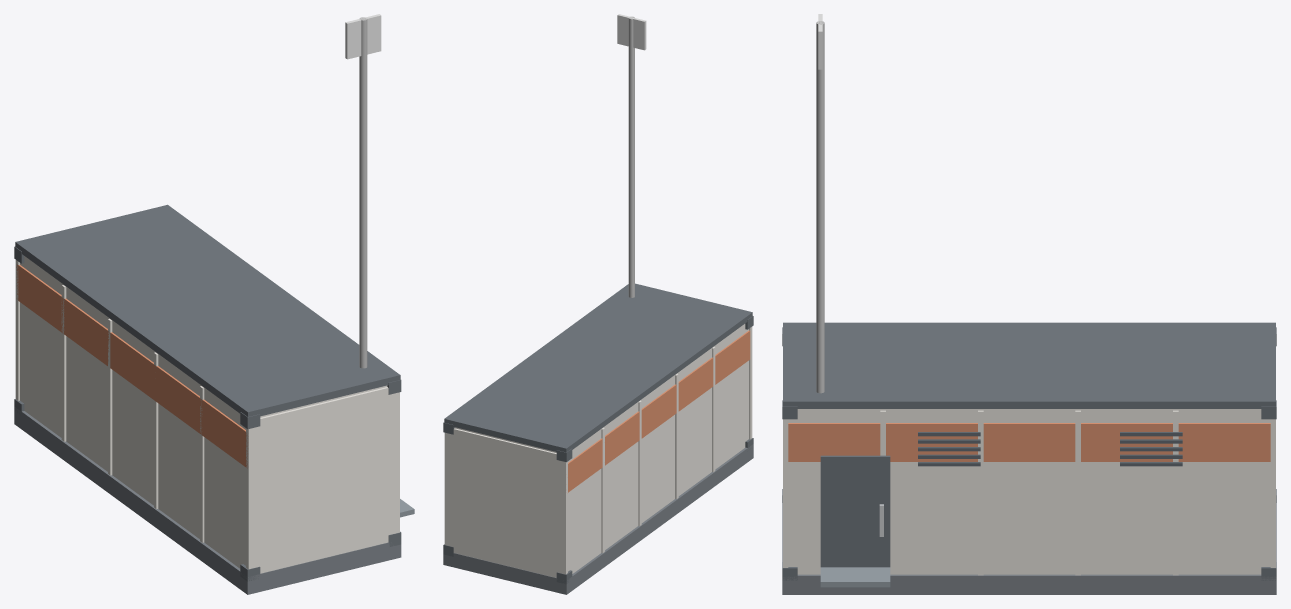
File: gti.glb
3 renders of one model, left to right at view 1: azimuth 30°, elevation 25°; view 2: azimuth 150°, elevation 25°; view 3: azimuth 270°, elevation 25°, orthographic. The views are drawn at different scales.
Visible parts, largest first — view 1: object 9, object 1, object 8, object 15, object 2, object 16, object 17, inst, object 4, object 5, object 3, object 7 (+1 smaller); view 2: object 9, object 1, object 3, object 15, object 2, object 16, object 17, inst, object 4, object 5, object 6, object 7 (+1 smaller); view 3: object 1, object 9, object 15, object 2, object 10, inst (×2), object 16, object 12, object 5, object 6, object 3, object 8 (+1 smaller).
Boxes of the visible parts, x1,y1,x2,y2 form: object 9: (15,204,400,416); object 1: (20,256,387,568); object 8: (246,387,399,573); object 15: (16,264,248,468); object 2: (14,407,401,594); object 16: (359,17,367,368); object 17: (345,14,381,59); inst: (14,246,401,581); object 4: (61,285,66,441); object 5: (108,318,112,475); object 3: (15,260,19,400); object 7: (200,386,204,542); object 9: (444,283,752,452); object 1: (454,324,748,573); object 3: (444,428,567,577); object 15: (568,330,750,492); object 2: (443,444,753,594); object 16: (628,16,634,297); object 17: (617,14,646,50); inst: (443,316,753,584); object 4: (601,427,604,553); object 5: (638,400,641,526); object 6: (675,373,678,499); object 7: (712,346,715,472); object 1: (788,409,1270,574); object 9: (783,322,1275,408); object 15: (788,423,1270,461); object 2: (782,503,1276,594); object 10: (820,455,890,567); inst (×2): (782,327,1276,580); object 16: (816,21,824,393); object 12: (820,567,890,587); object 5: (1075,410,1080,575); object 6: (978,410,983,575); object 3: (1270,419,1275,567); object 8: (783,419,788,567).
Size of the model in its own units: 3.25 by 8.9 by 7.1.
